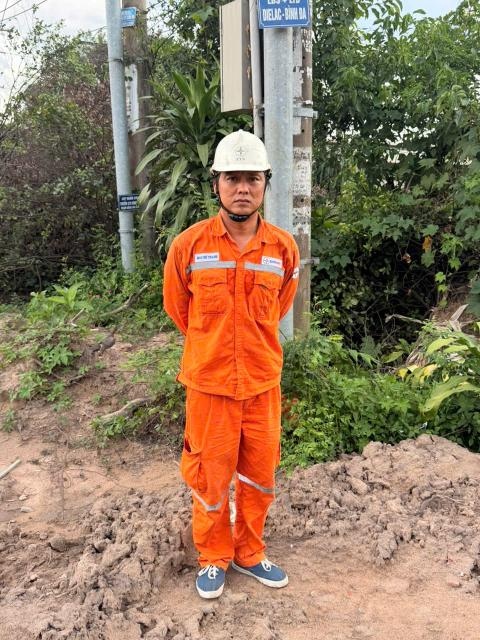helmet: (195, 124, 288, 187)
shoes: (178, 538, 234, 609), (233, 536, 298, 596)
